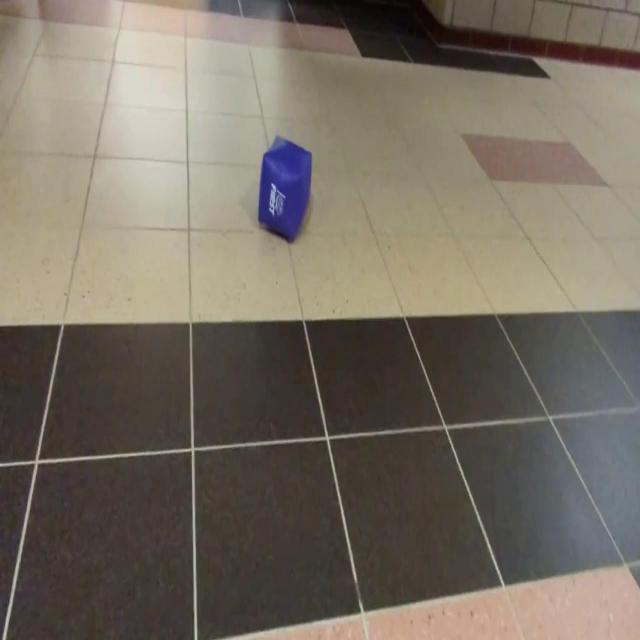frc_cube: (257, 135, 313, 241)
